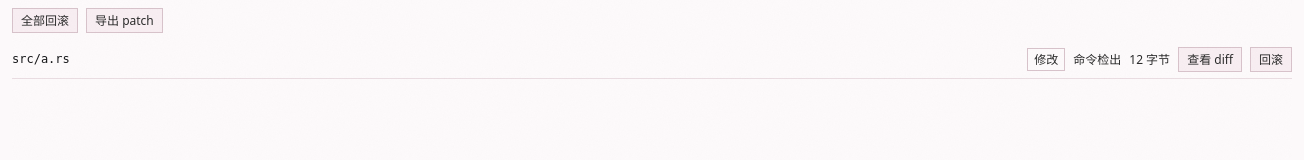
Test: FileChangesPanel 交互(批次 4c) › 「全部回滚」:409 失败原文显示(任务进行中)
Click the button "全部回滚": (45, 21) [12,8,78,33]
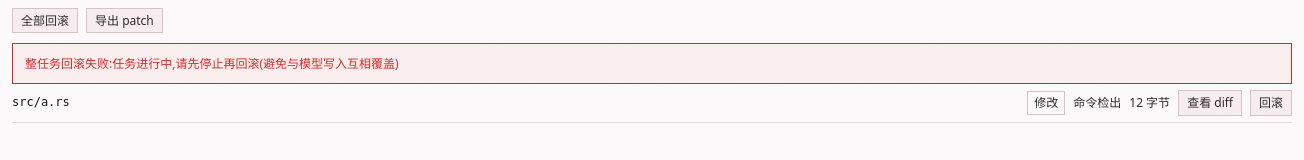
expect the text "整任务回滚失败" is shown: met, box [25,55,399,72]
expect the text "任务进行中,请先停止再回滚" is shown: met, box [25,55,399,72]
